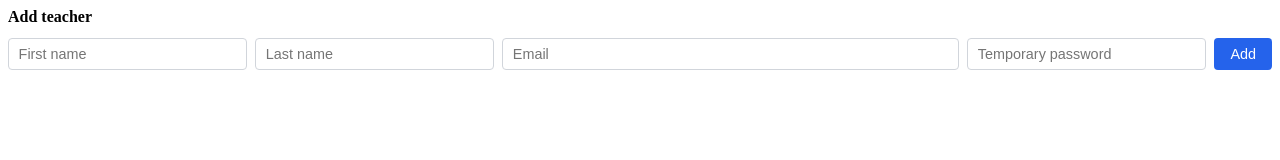
it: CreateTeacherForm › shows fallback error message when API returns no detail
This screenshot has width=1280, height=160.
Step 1. Type "Jane" into the field with placeholder "First name" → (128, 54), box [8,38,247,70]
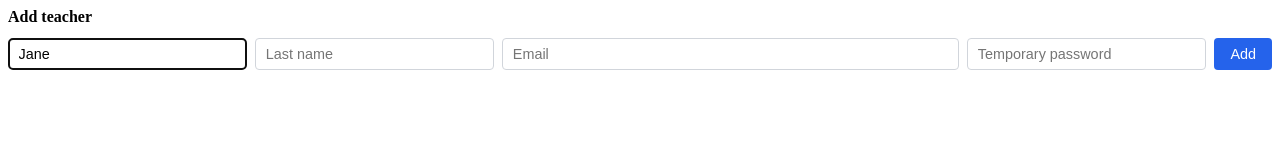
Step 2. Type "Doe" into the field with placeholder "Last name" → (375, 54), box [255,38,494,70]
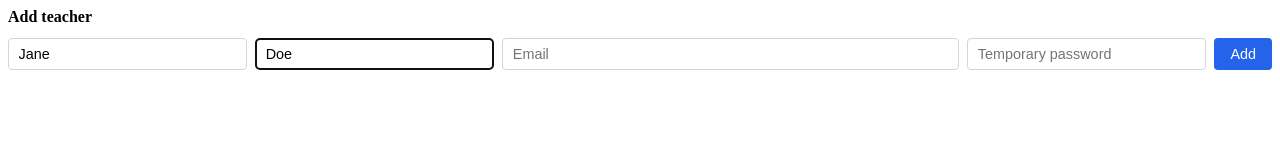
Step 3. Type "x@test.com" into the field with placeholder "Email" → (731, 54), box [502,38,959,70]
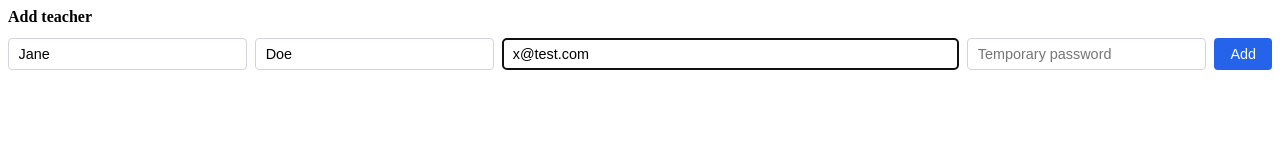
Step 4. Type "temppass123" into the field with placeholder "Temporary password" → (1087, 54), box [967,38,1206,70]
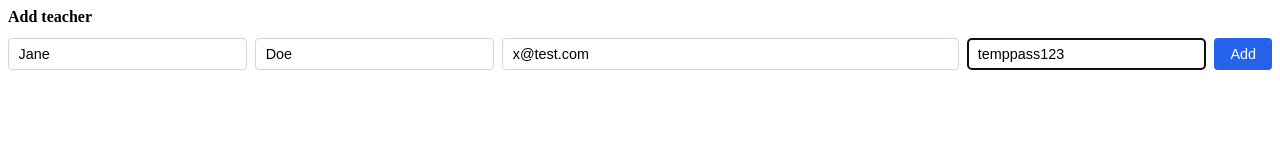
Step 5. Click the button "Add" → (1243, 54), box [1214,38,1272,70]
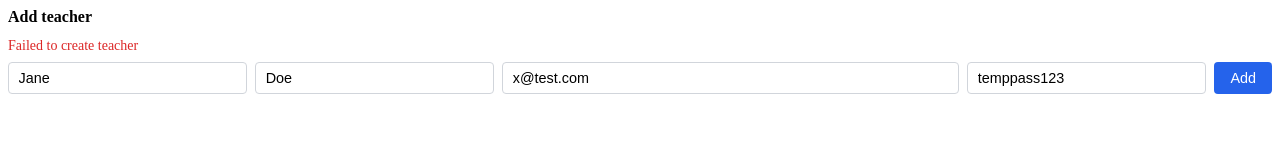
Expected: the text "Failed to create teacher" is shown, [8,38,138,53]
